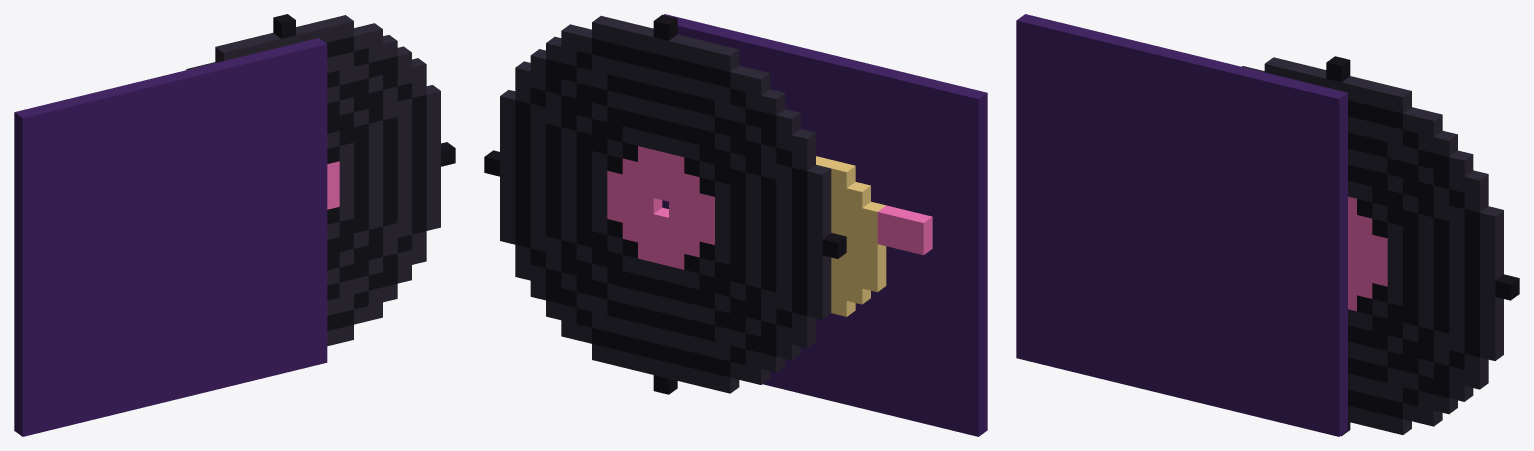
File: recuerdo_06.obj
3 views of the same model, side by side, from view 1: azimuth 30°, elevation 25°; view 2: azimuth 150°, elevation 25°; view 3: azimuth 330°, elevation 25° (orthographic). The views are drawn at different scales.
Visible parts, largest first — view 1: funda, disco_vinil_brillo, disco_vinil, disco_etiqueta; view 2: funda, disco_vinil_brillo, disco_vinil, disco_etiqueta, funda_saturno_saturno, funda_saturno_rosa; view 3: funda, disco_vinil_brillo, disco_vinil, disco_etiqueta.
Part boxes in pixels (box(x1,y1,x2,y2)): funda: box(14, 38, 327, 436); disco_vinil_brillo: box(186, 15, 440, 346); disco_vinil: box(273, 14, 455, 330); disco_etiqueta: box(327, 161, 339, 209); funda: box(662, 14, 987, 436); disco_vinil_brillo: box(500, 16, 831, 393); disco_vinil: box(484, 14, 846, 394); disco_etiqueta: box(607, 146, 714, 269); funda_saturno_saturno: box(816, 156, 886, 316); funda_saturno_rosa: box(877, 205, 932, 255); funda: box(1016, 14, 1347, 436); disco_vinil_brillo: box(1242, 57, 1503, 434); disco_vinil: box(1326, 56, 1519, 436); disco_etiqueta: box(1348, 196, 1387, 311).
Bounding box in the file's own units: 1.24 × 0.92 × 0.12.
